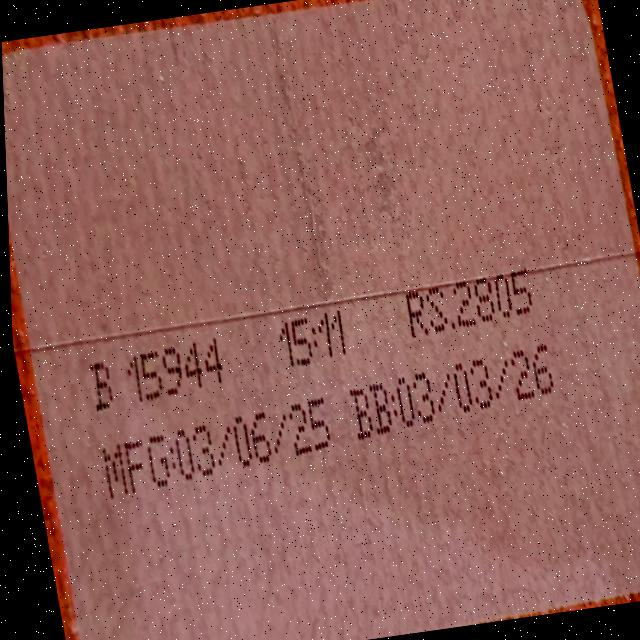BB: (344, 342, 570, 452)
Batch: (79, 328, 234, 421)
MFG: (92, 401, 345, 508)
RS: (390, 246, 552, 352)
TimeStamp: (268, 286, 362, 380)
